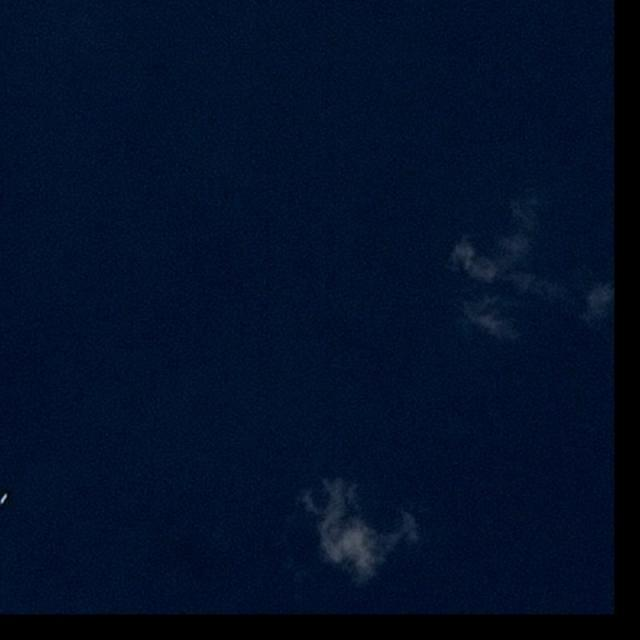ship: (0, 493, 10, 509)
